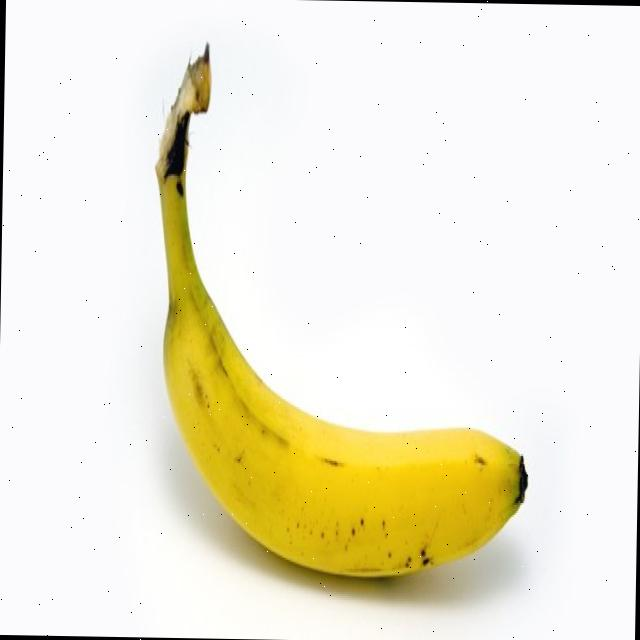Pisang: (148, 38, 536, 581)
